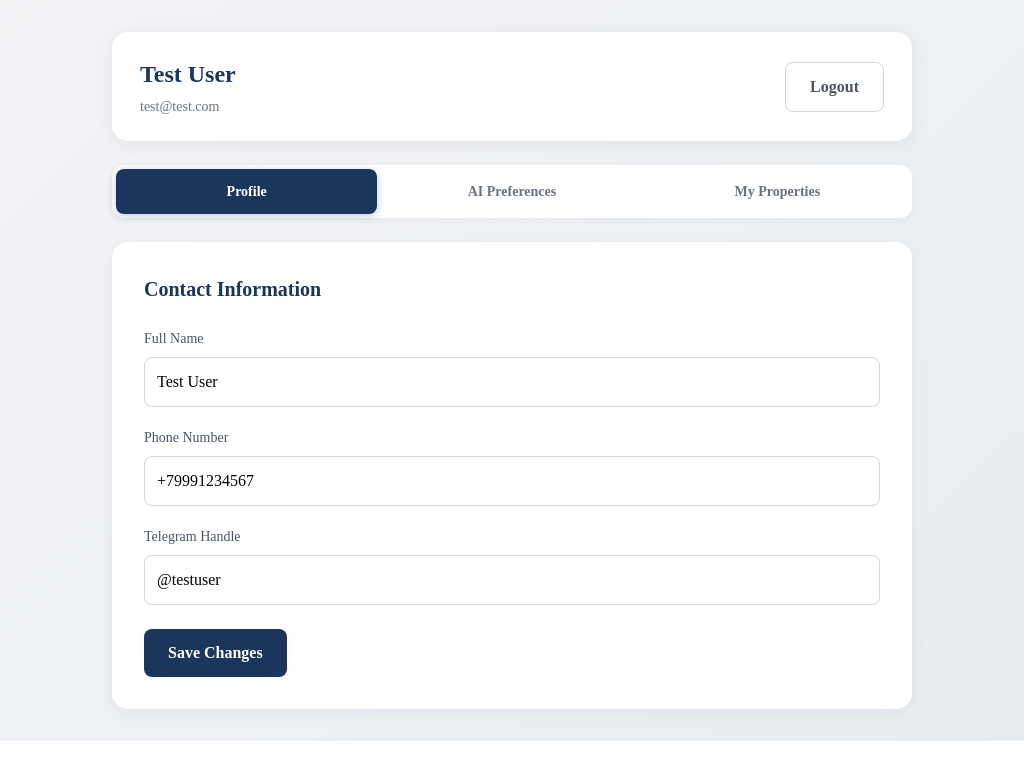
Profile Page › Tabs › switches to My Properties tab and shows empty state
Click the button "My Properties": coordinates (777, 192) 647,169 -> 908,214
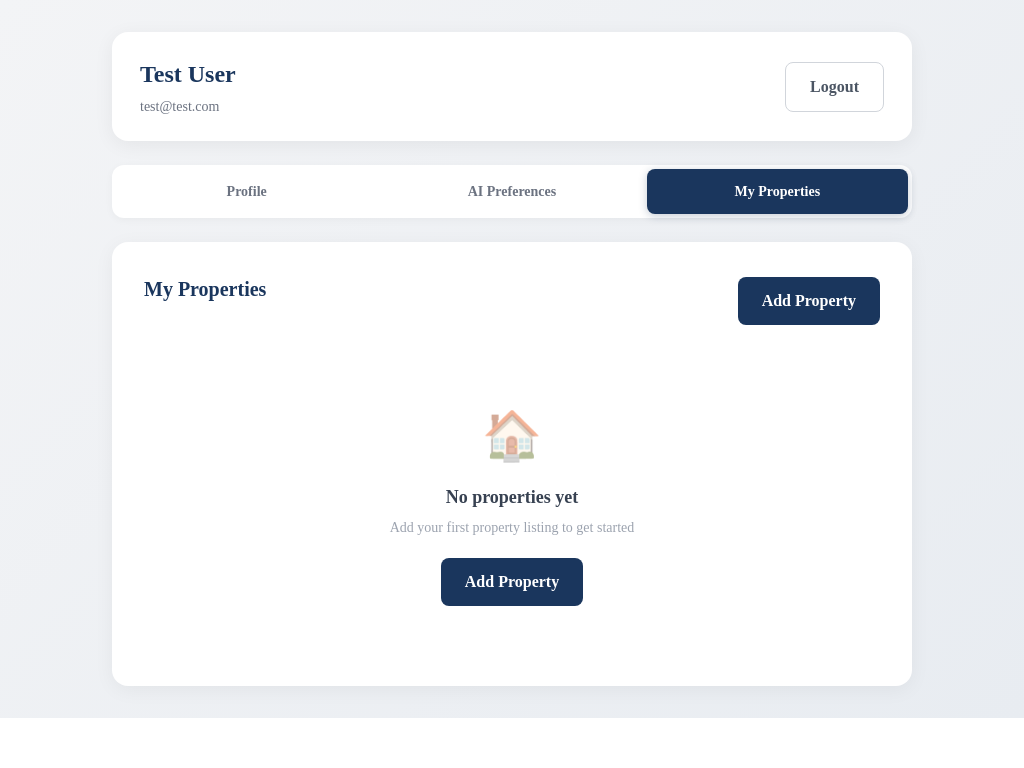
Expected: the heading "No properties yet" is shown, 446,487 -> 578,507
Expected: the text "Add your first property listing to get started" is shown, 390,520 -> 634,535
